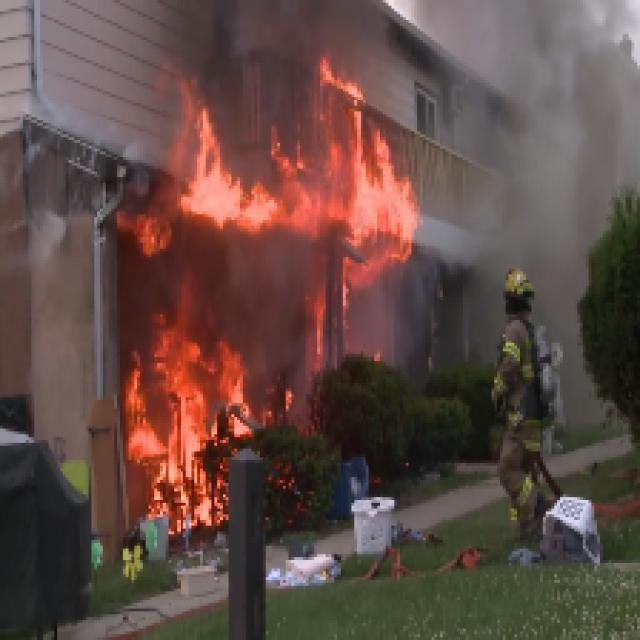Fire: (97, 46, 423, 554)
Smoke: (145, 3, 640, 183), (414, 2, 640, 292)
